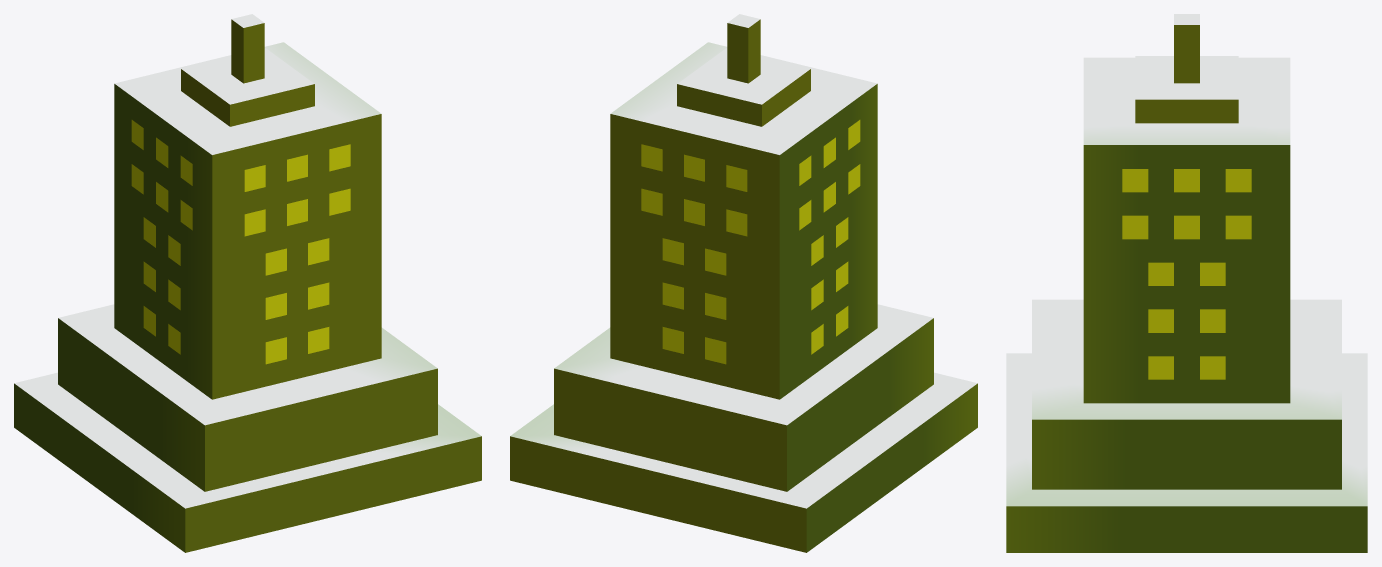
File: HQ.OrangeStar.AcidRain.Snow.glb
The picture shows the model from 3 angles, left to right: view 1: azimuth 30°, elevation 25°; view 2: azimuth 150°, elevation 25°; view 3: azimuth 270°, elevation 25°; orthographic projection. The views are drawn at different scales.
Parts seen in each view (by area): view 1: HQ.OrangeStar.AcidRain.Snow; view 2: HQ.OrangeStar.AcidRain.Snow; view 3: HQ.OrangeStar.AcidRain.Snow.
Part boxes in pixels (left/top/right/bottom): HQ.OrangeStar.AcidRain.Snow: left=14, top=14, right=481, bottom=552; HQ.OrangeStar.AcidRain.Snow: left=510, top=14, right=977, bottom=552; HQ.OrangeStar.AcidRain.Snow: left=1006, top=14, right=1367, bottom=552.
Size of the model in its own units: 2.8 by 3.91 by 2.8.
Materials: 2 (1 with a texture image).
